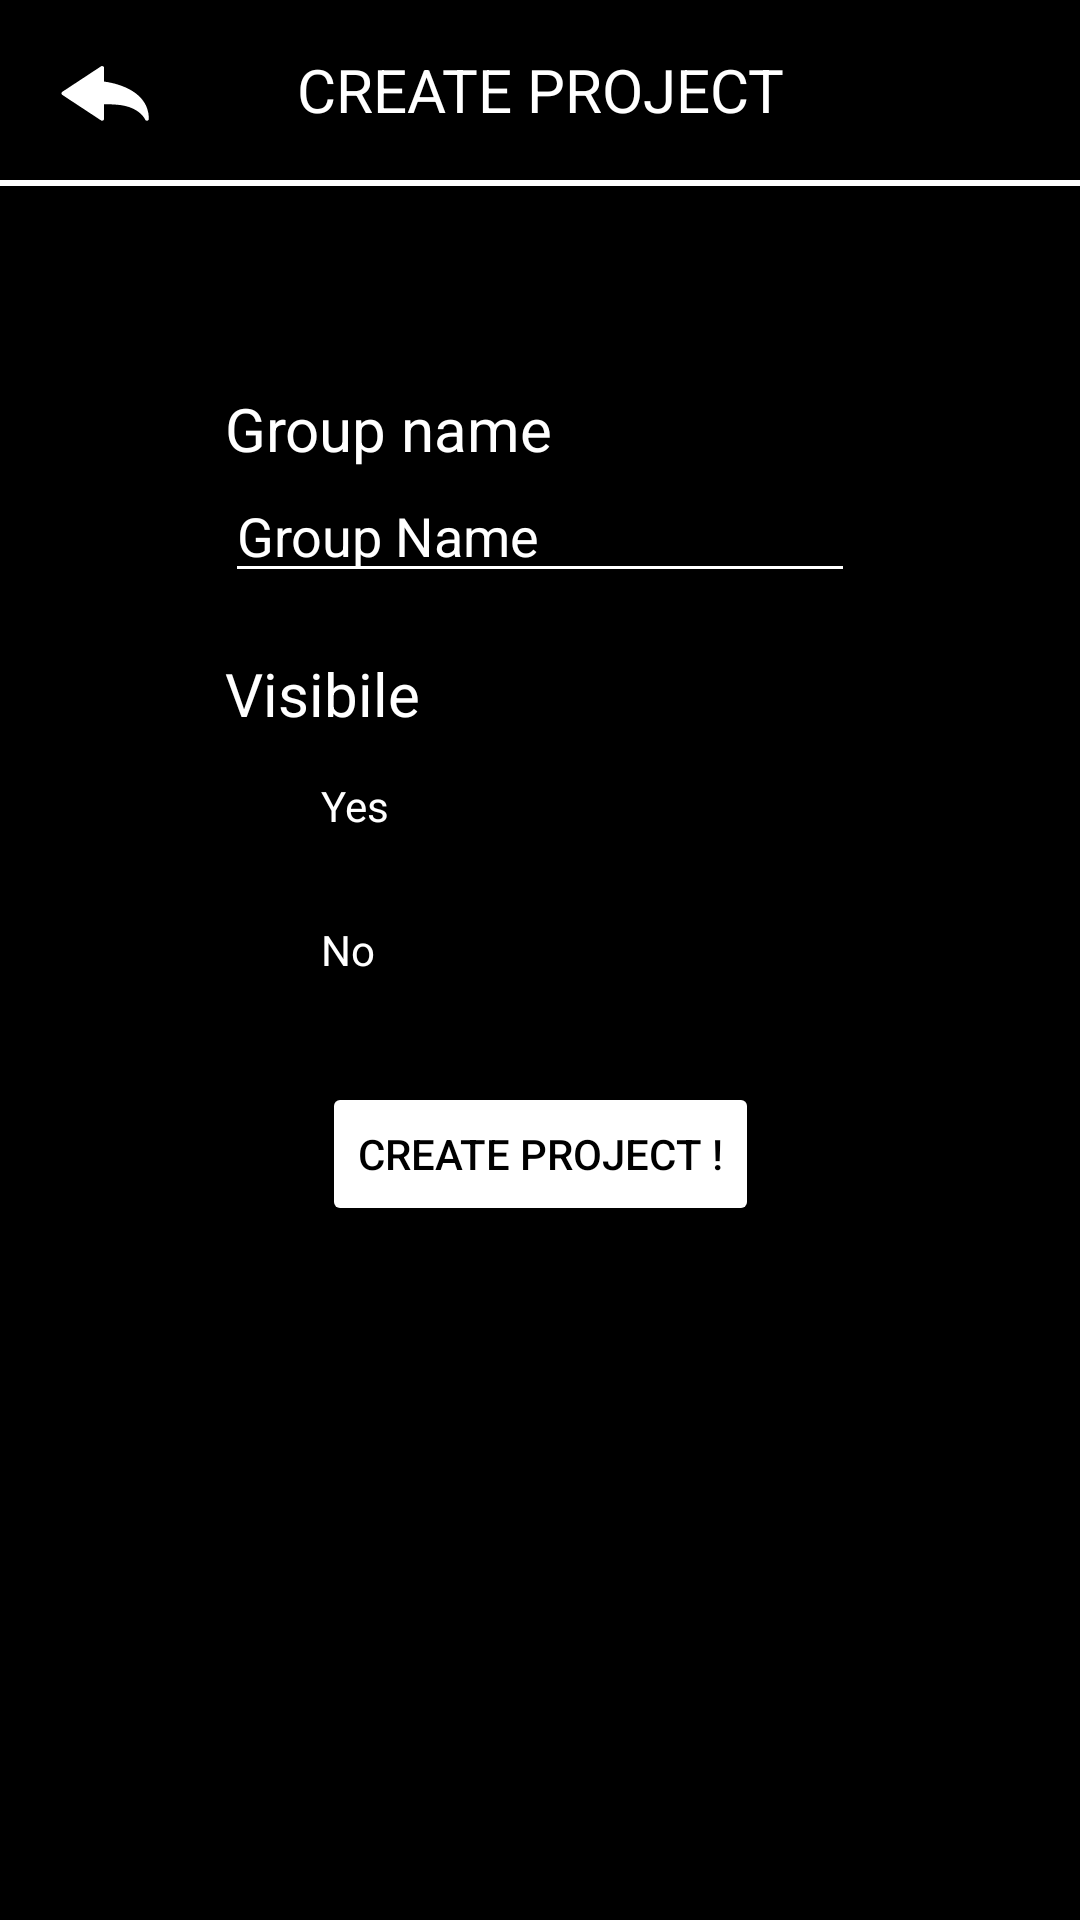

Point at icon controls on the screen. Image size 1080px x 1920px, points as point (x, y).
back arrow: point (105, 93)
